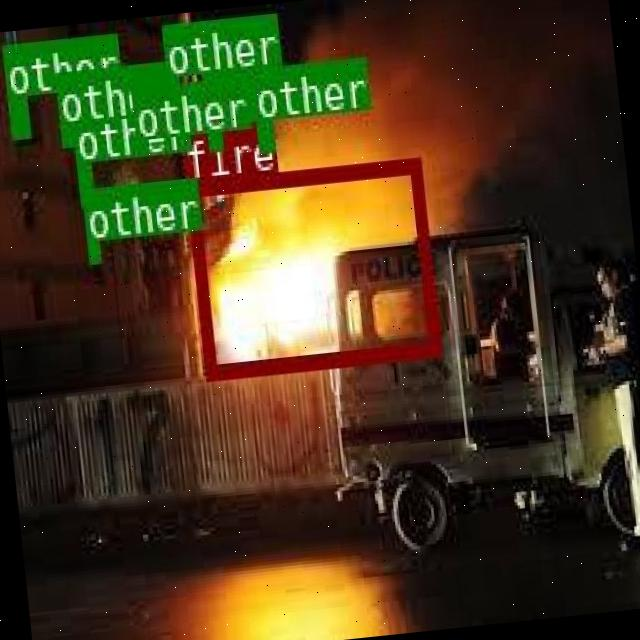fire: (182, 154, 436, 378)
